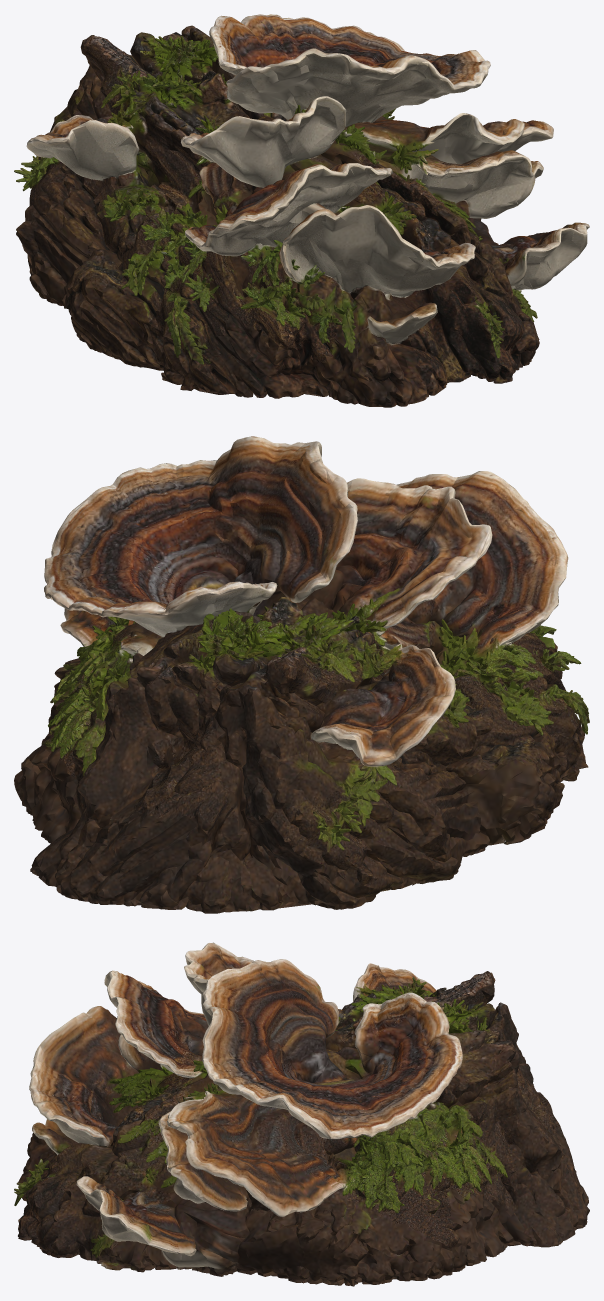
The model's file is turkey-tail.glb.
3 renders of one model, top to bottom at view 1: azimuth 30°, elevation 25°; view 2: azimuth 150°, elevation 25°; view 3: azimuth 270°, elevation 25°, orthographic. The views are drawn at different scales.
Visible parts, largest first — view 1: output_unwrapped; view 2: output_unwrapped; view 3: output_unwrapped.
Part boxes in pixels (x1,y1,x2,y2): output_unwrapped: [14, 14, 589, 407]; output_unwrapped: [14, 436, 589, 913]; output_unwrapped: [14, 942, 589, 1286].
Bounding box in the file's own units: 1.57 × 0.8852 × 1.9.
1 material, 1 textured.
